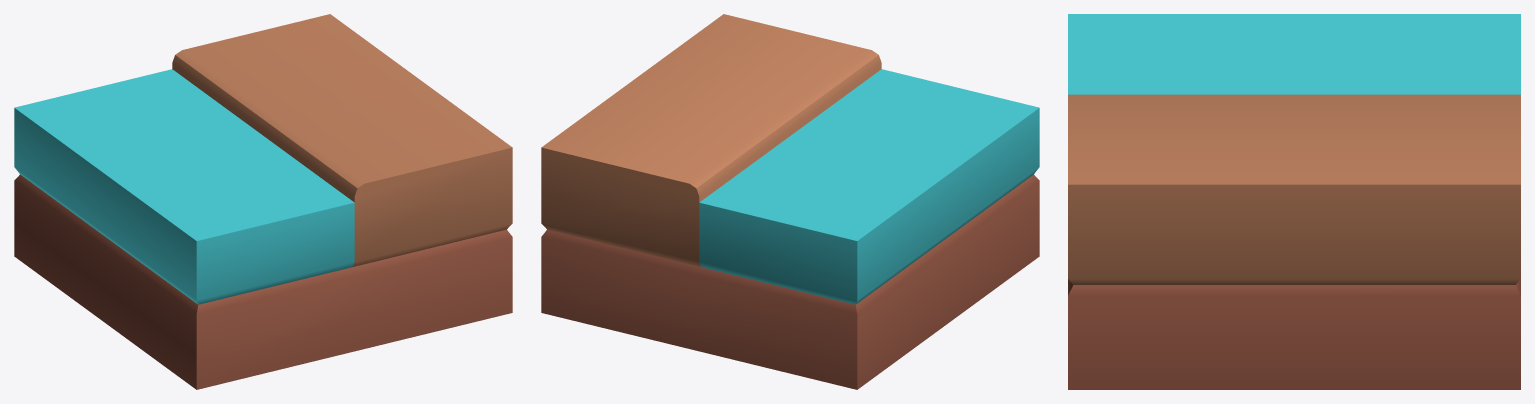
File: kaykit-square-rock-waterstraight.glb
3 renders of one model, left to right at view 1: azimuth 30°, elevation 25°; view 2: azimuth 150°, elevation 25°; view 3: azimuth 270°, elevation 25°, orthographic. The views are drawn at different scales.
Visible parts, largest first — view 1: square_rock_waterStraight; view 2: square_rock_waterStraight; view 3: square_rock_waterStraight.
Part boxes in pixels (box(x1,y1,x2,y2)): square_rock_waterStraight: box(14, 14, 512, 389); square_rock_waterStraight: box(541, 14, 1039, 389); square_rock_waterStraight: box(1068, 14, 1520, 389).
Bounding box in the file's own units: 2 × 1 × 2.
